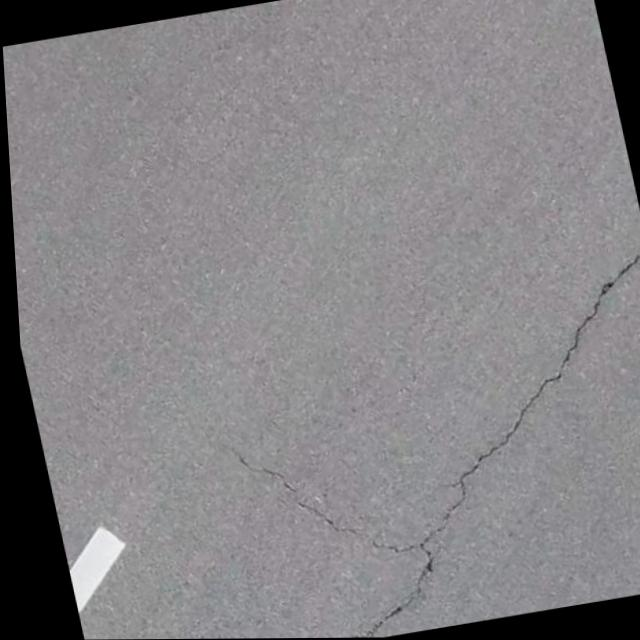Crack: (186, 386, 457, 639), (419, 369, 574, 529), (513, 208, 640, 387)
